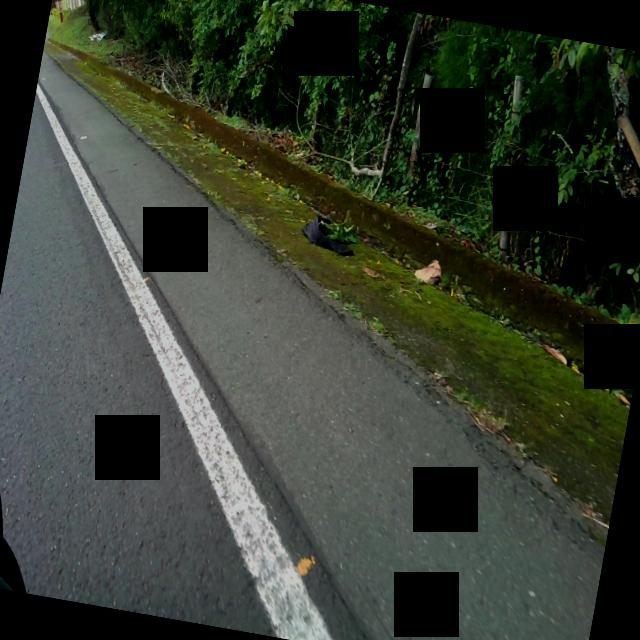DITCH: (0, 34, 640, 640), (0, 73, 640, 640)
